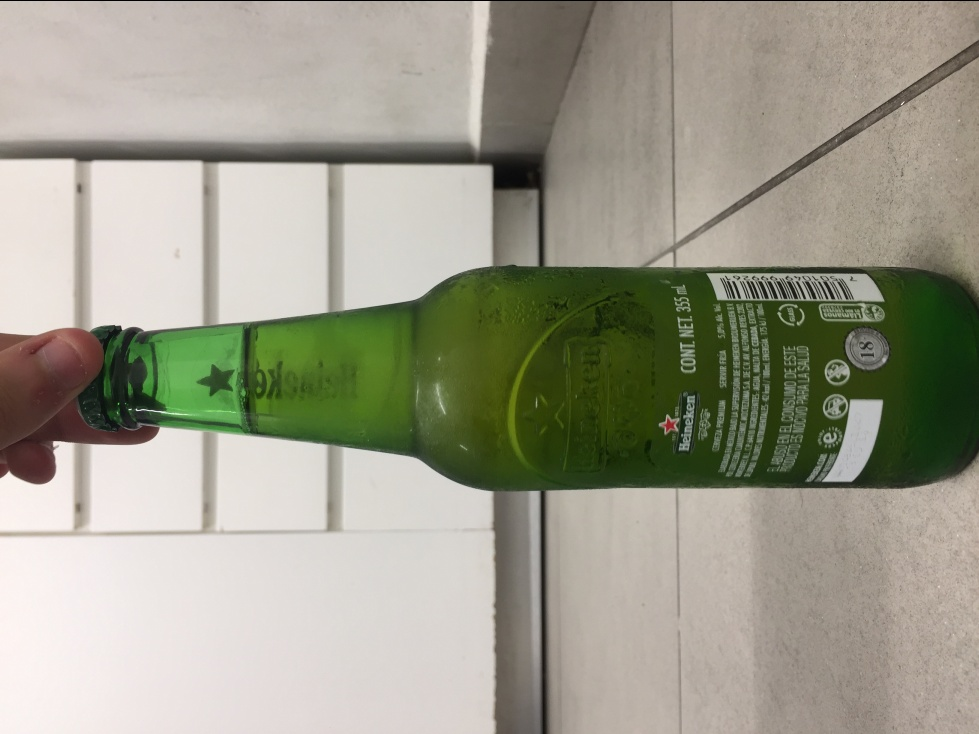heineken: (69, 262, 979, 494)
